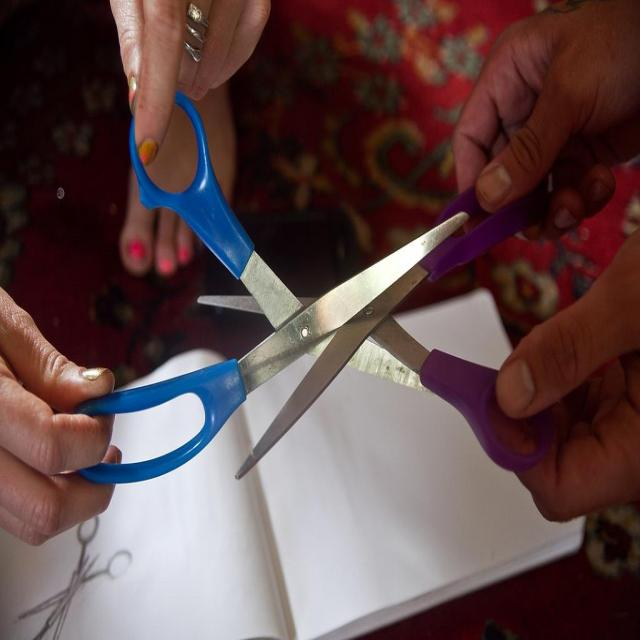scissor: (78, 87, 469, 481), (197, 158, 584, 482)
